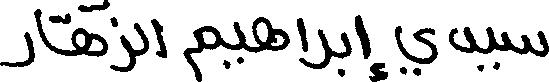X: (395, 21, 437, 80), (186, 21, 220, 81), (72, 0, 105, 61), (252, 12, 288, 57), (503, 26, 548, 61), (0, 27, 33, 71), (114, 12, 134, 76), (308, 24, 329, 73), (447, 22, 475, 57), (356, 10, 369, 81), (151, 14, 166, 62), (35, 4, 48, 52), (341, 27, 350, 81), (136, 18, 147, 60), (235, 17, 244, 68), (486, 22, 495, 73), (298, 13, 306, 70)
